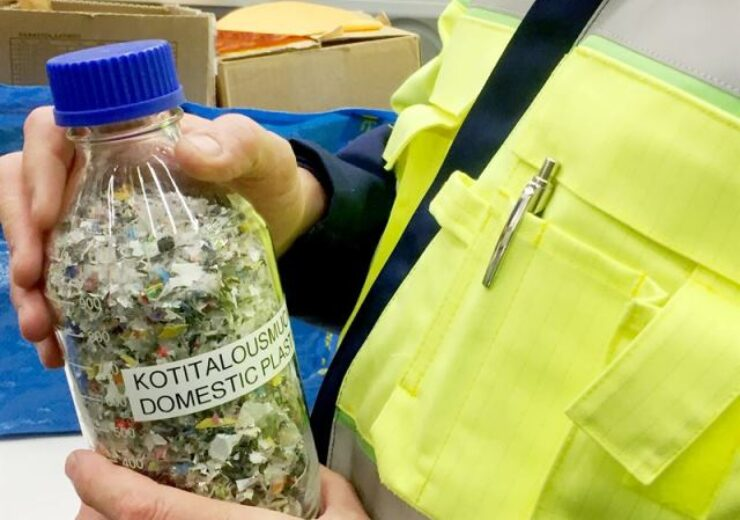plastic_bottle: (12, 37, 377, 520)
